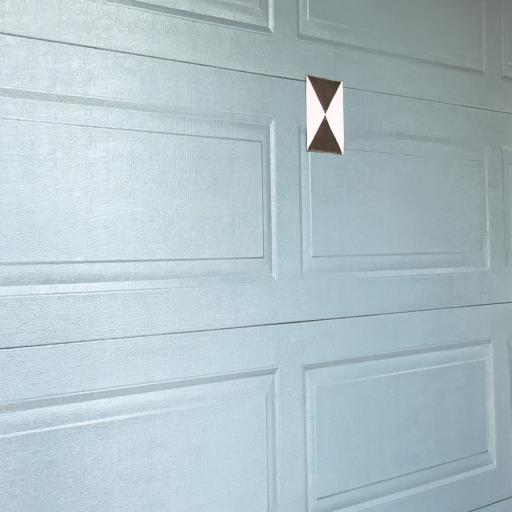target: (306, 76, 344, 155)
